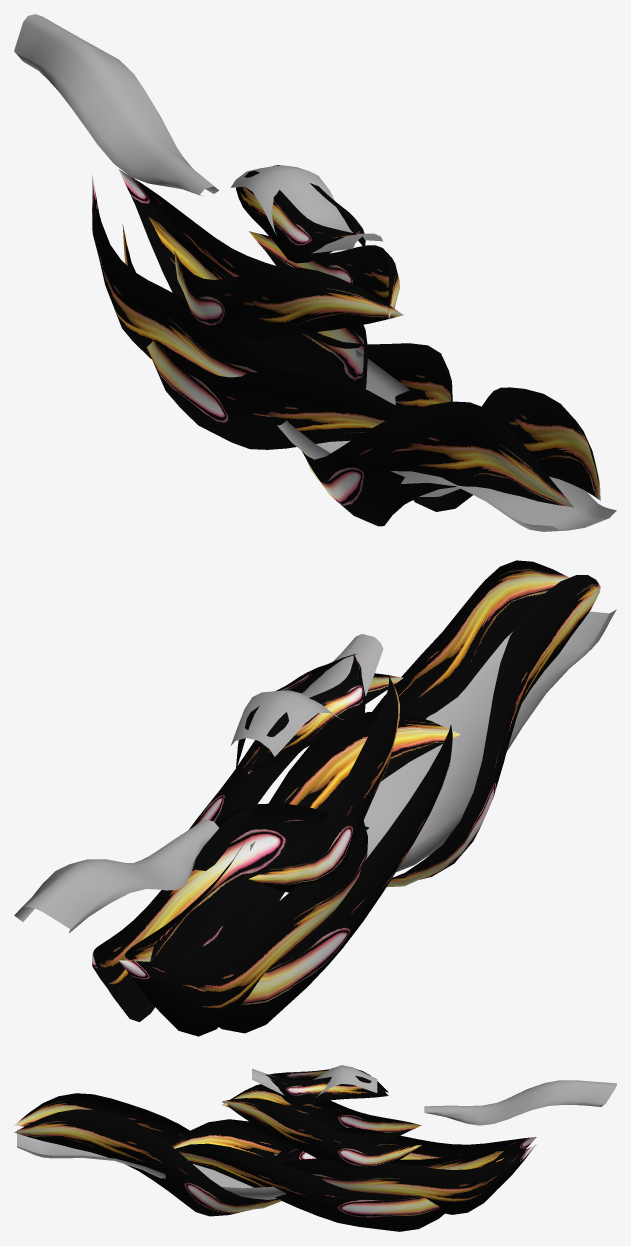
File: effect.fbx
The picture shows the model from 3 angles, top to bottom: view 1: azimuth 30°, elevation 25°; view 2: azimuth 150°, elevation 25°; view 3: azimuth 270°, elevation 25°; orthographic projection. The views are drawn at different scales.
Visible parts, largest first — view 1: effectPlane1, effectPlane2, MainPlane, effectPlane, effectPlane3, effectPlane12, effectPlane10, MainPlane1, effectPlane11, MainPlane2, effectPlane9, effectPlane4; view 2: effectPlane12, effectPlane3, MainPlane1, effectPlane1, effectPlane2, effectPlane10, effectPlane11, MainPlane, effectPlane, MainPlane2, effectPlane9, effectPlane4 (+1 smaller); view 3: effectPlane10, effectPlane11, effectPlane12, effectPlane9, MainPlane, effectPlane2, effectPlane, effectPlane1, effectPlane3, MainPlane1, effectPlane8, MainPlane2 (+1 smaller).
Part boxes in pixels (x1,y1,x2,y2): effectPlane1: (302, 401, 573, 526); effectPlane2: (122, 224, 405, 449); MainPlane: (14, 14, 218, 195); effectPlane: (174, 250, 403, 341); effectPlane3: (92, 175, 307, 377); effectPlane12: (118, 169, 367, 389); effectPlane10: (413, 387, 600, 511); MainPlane1: (277, 349, 616, 531); effectPlane11: (148, 217, 452, 412); MainPlane2: (231, 165, 382, 253); effectPlane9: (248, 231, 399, 318); effectPlane4: (236, 170, 358, 263); effectPlane12: (92, 803, 369, 1021); effectPlane3: (118, 821, 367, 1036); MainPlane1: (250, 609, 616, 892); effectPlane1: (386, 575, 600, 887); effectPlane2: (219, 725, 452, 1033); effectPlane10: (372, 560, 569, 719); effectPlane11: (122, 711, 460, 961); MainPlane: (14, 819, 218, 932); effectPlane: (249, 674, 399, 892); MainPlane2: (231, 634, 383, 756); effectPlane9: (189, 673, 403, 870); effectPlane4: (248, 653, 365, 773); effectPlane10: (14, 1109, 281, 1216); effectPlane11: (175, 1143, 503, 1231); effectPlane12: (281, 1144, 536, 1214); effectPlane9: (222, 1098, 421, 1169); MainPlane: (424, 1080, 616, 1125); effectPlane2: (172, 1119, 503, 1169); effectPlane: (222, 1084, 421, 1145); effectPlane1: (14, 1093, 189, 1145); effectPlane3: (271, 1128, 536, 1163); MainPlane1: (17, 1129, 286, 1199); effectPlane8: (265, 1074, 388, 1105); MainPlane2: (252, 1065, 377, 1096).
Bounding box in the file's own units: 12.65 × 23.7 × 83.72.
